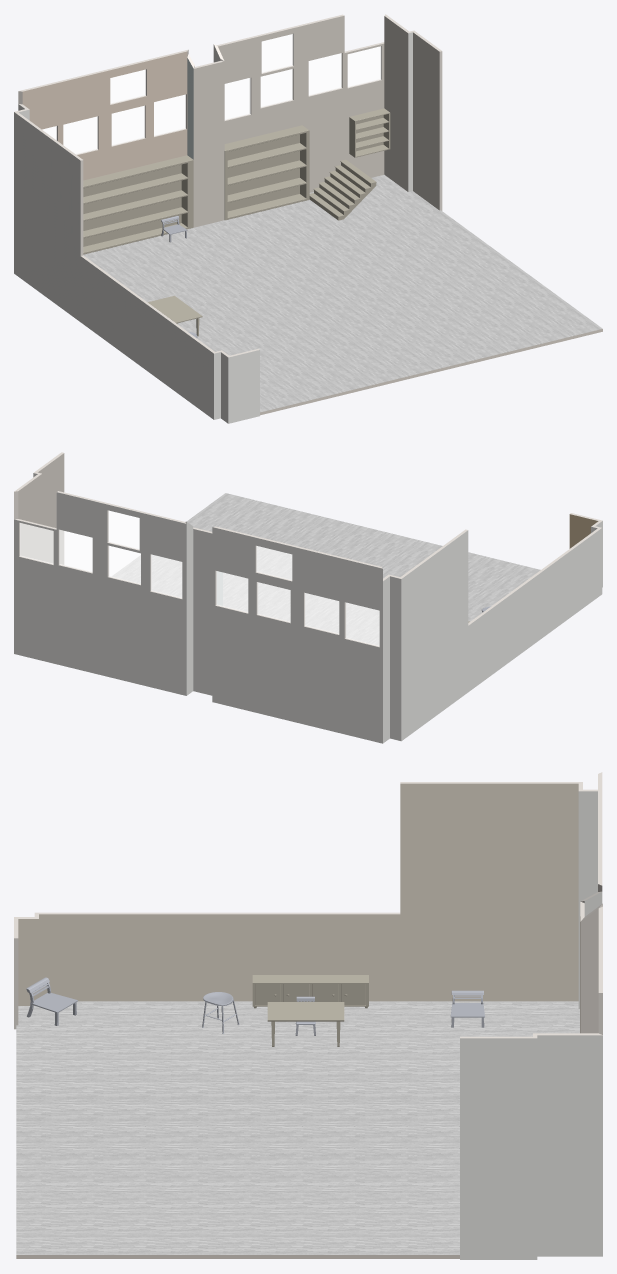
The model's file is LibraryMain.glb.
3 views of the same model, one above another, from view 1: azimuth 30°, elevation 25°; view 2: azimuth 150°, elevation 25°; view 3: azimuth 270°, elevation 25° (orthographic). The views are drawn at different scales.
Parts seen in each view (by area): view 1: floor_Dining_Room, wall_3, wall_30, wall_14, storage_shelf0, storage_shelf1, wall_22, wall_18, wall_32, stairs70, wall_11, storage_shelf2 (+26 smaller); view 2: wall_0, wall_8, wall_3, floor_Dining_Room, wall_4, wall_5, wall_18, wall_32, wall_1, window_6, window_16, window_7 (+22 smaller); view 3: floor_Dining_Room, wall_20, wall_2, wall_9, storage_cabinet_low40, wall_40, wall_16, floor_Dining_Room_2, table_dining_rect0, wall_26, wall_21, chair_other_four_back_no2 (+1 smaller).
Part boxes in pixels (x1,y1,x2,y2): floor_Dining_Room: (83, 174, 602, 412); wall_3: (14, 112, 213, 419); wall_30: (218, 15, 384, 192); wall_14: (22, 51, 187, 180); storage_shelf0: (83, 155, 193, 254); storage_shelf1: (224, 125, 309, 220); wall_22: (193, 61, 224, 227); wall_18: (413, 32, 439, 210); wall_32: (384, 16, 408, 191); stairs70: (309, 159, 376, 220); wall_11: (228, 350, 259, 423); storage_shelf2: (349, 108, 390, 157); wall_0: (212, 527, 382, 743); wall_8: (14, 492, 186, 695); wall_3: (401, 528, 602, 740); floor_Dining_Room: (112, 493, 540, 645); wall_4: (193, 529, 212, 695); wall_5: (390, 576, 401, 740); wall_18: (38, 453, 64, 564); wall_32: (18, 474, 42, 560); wall_1: (186, 522, 193, 695); window_6: (346, 603, 379, 645); window_16: (346, 603, 379, 645); window_7: (59, 530, 92, 572); floor_Dining_Room: (16, 1001, 579, 1254); wall_20: (39, 783, 578, 1001); wall_2: (460, 1038, 537, 1259); wall_9: (537, 1035, 602, 1256); storage_cabinet_low40: (252, 975, 368, 1008); wall_40: (578, 791, 597, 1008); wall_16: (580, 908, 598, 1033); floor_Dining_Room_2: (16, 1255, 459, 1258); table_dining_rect0: (267, 1002, 344, 1046); wall_26: (18, 919, 38, 1005); wall_21: (35, 782, 581, 914); chair_other_four_back_no2: (26, 977, 77, 1025).
Size of the model in its own units: 13.92 by 6.05 by 13.51.
Materials: 43 (1 with a texture image).
